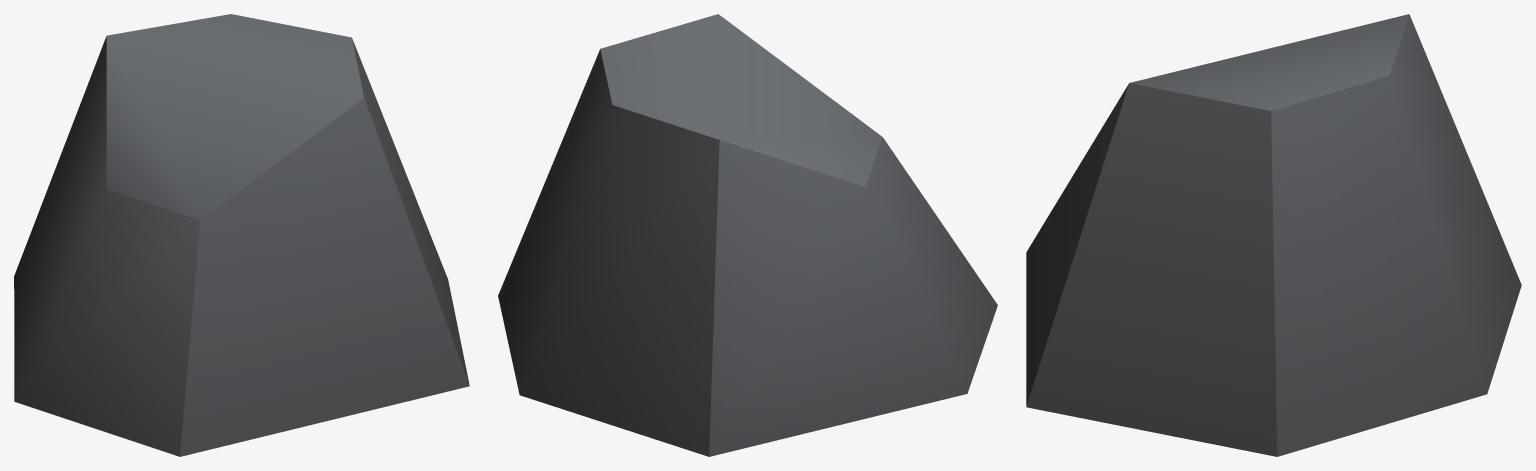
File: rock_D-CnU1mcsk.glb
3 views of the same model, side by side, from view 1: azimuth 30°, elevation 25°; view 2: azimuth 150°, elevation 25°; view 3: azimuth 270°, elevation 25° (orthographic). The views are drawn at different scales.
Parts seen in each view (by area): view 1: rock_single_D; view 2: rock_single_D; view 3: rock_single_D.
Part boxes in pixels (x1,y1,x2,y2): rock_single_D: (14, 14, 469, 456); rock_single_D: (498, 14, 997, 456); rock_single_D: (1026, 14, 1521, 456).
Size of the model in its own units: 1.42 by 0.8065 by 1.24.
Materials: 1 (1 with a texture image).
